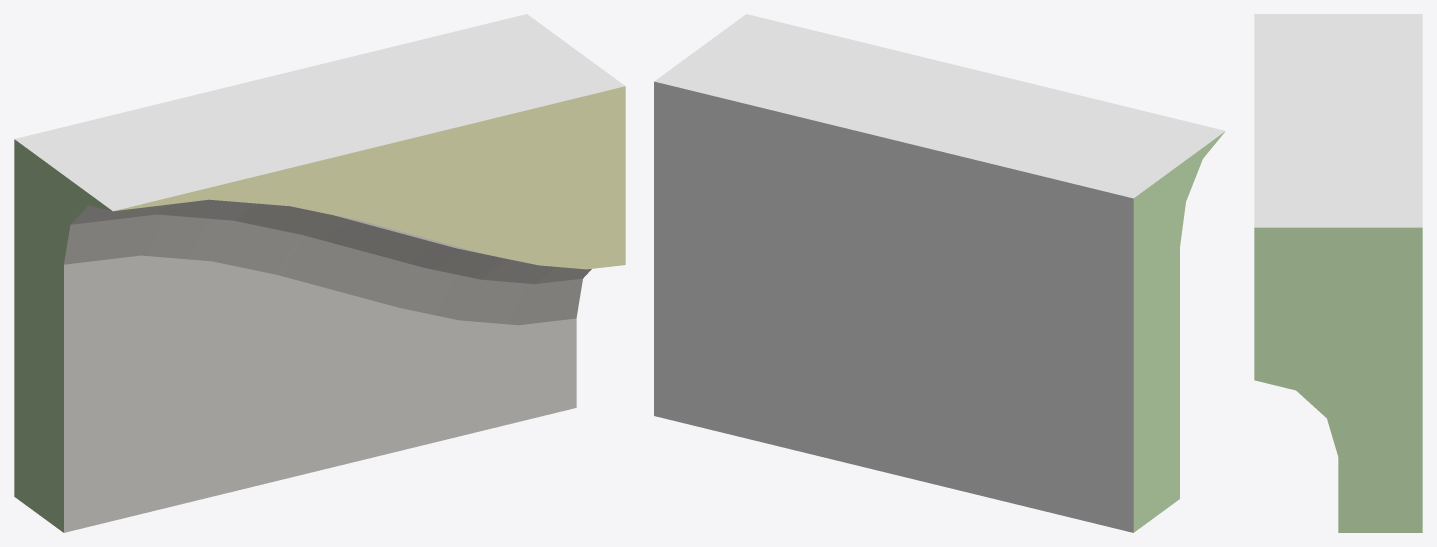
The model's file is Wall_Incline_2x6_Top.glb.
3 views of the same model, side by side, from view 1: azimuth 30°, elevation 25°; view 2: azimuth 150°, elevation 25°; view 3: azimuth 270°, elevation 25° (orthographic). The views are drawn at different scales.
Visible parts, largest first — view 1: Wall_Incline_2x6_Top; view 2: Wall_Incline_2x6_Top; view 3: Wall_Incline_2x6_Top.
Boxes of the visible parts, <box> form: Wall_Incline_2x6_Top: <box>14,14,625,532</box>; Wall_Incline_2x6_Top: <box>654,14,1225,532</box>; Wall_Incline_2x6_Top: <box>1254,14,1422,532</box>.
Bounding box in the file's own units: 600 × 400 × 200.
